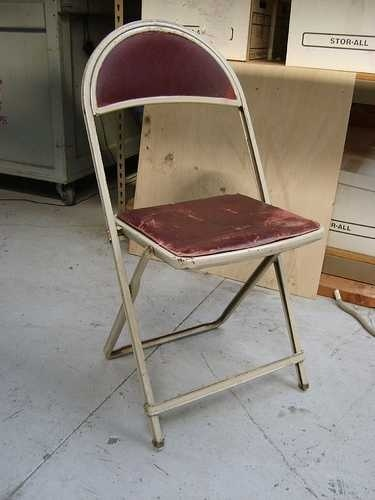obstacle: (82, 21, 323, 446)
